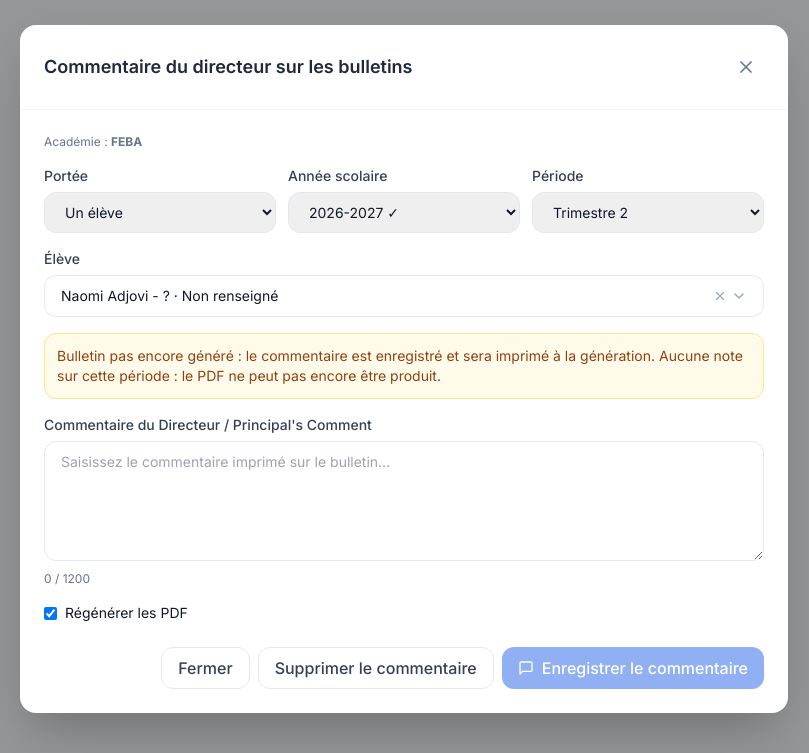
Test: bulletin pas encore généré › enregistre le commentaire sans exiger la génération, puis affiche la confirmation du serveur
Check: the element with test id "bulletin-state" shows "pas encore généré", box [57,347,655,364]
Type "Avant génération" into the text box labelled "Commentaire du Directeur / Principal's Comment" at (404, 501), box [44,441,764,561]
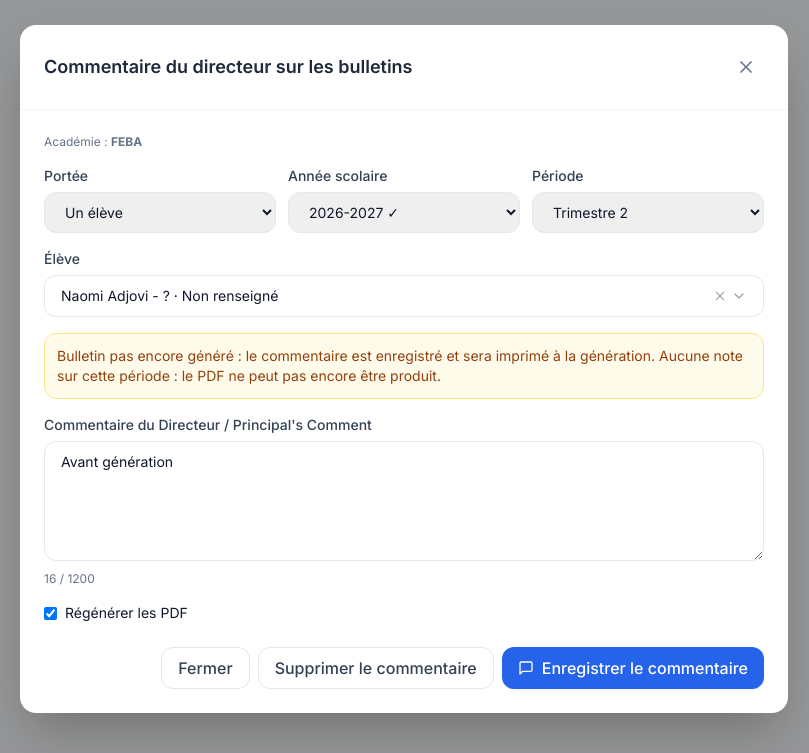
Click the button "Enregistrer le commentaire" at (633, 668), box [502,647,764,689]
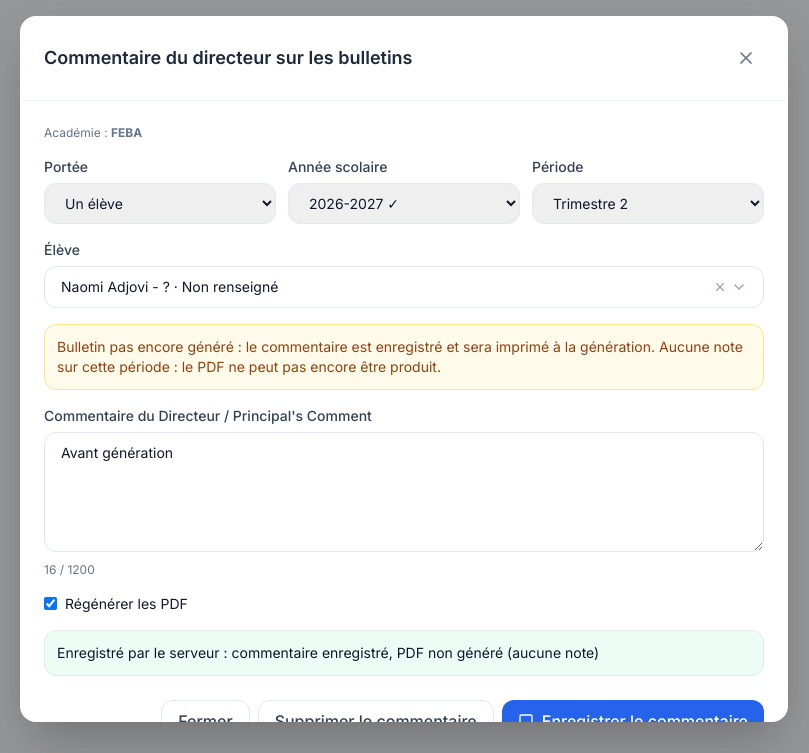
Check: the message with test id "save-confirmation" shows "PDF non généré", box [232,644,599,661]
